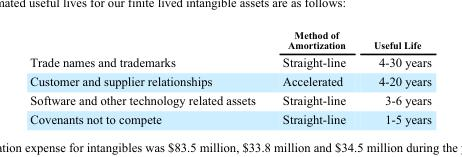table: (29, 29, 430, 126)
table column: (29, 29, 268, 126), (268, 29, 359, 126), (359, 29, 430, 126)
table column header: (29, 29, 430, 52)
table row: (29, 29, 430, 52), (29, 52, 430, 71), (29, 71, 430, 90), (29, 90, 430, 109), (29, 109, 430, 126)
